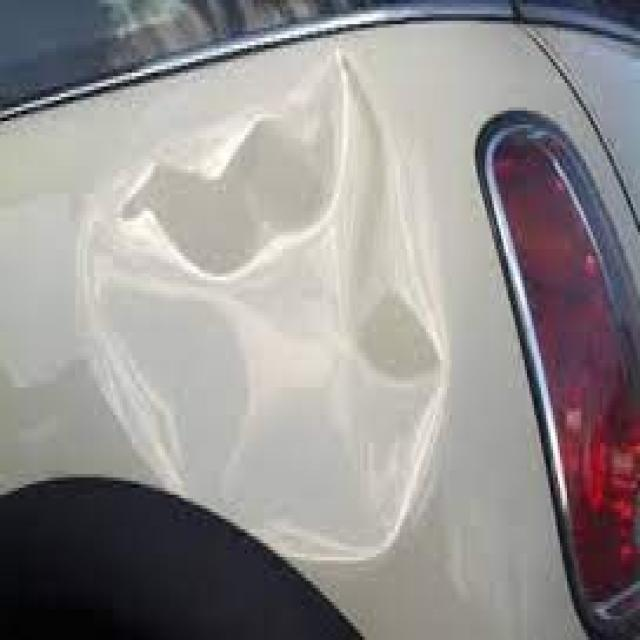Dent: (72, 171, 470, 513), (211, 102, 441, 158)
